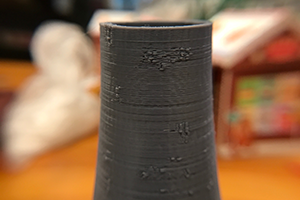blob: (136, 43, 203, 77), (174, 116, 192, 143), (105, 81, 124, 106), (159, 154, 191, 165), (183, 165, 200, 183), (156, 182, 171, 193)
